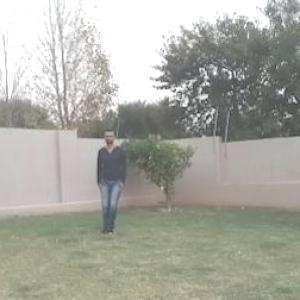follow: (96, 126, 125, 237)
